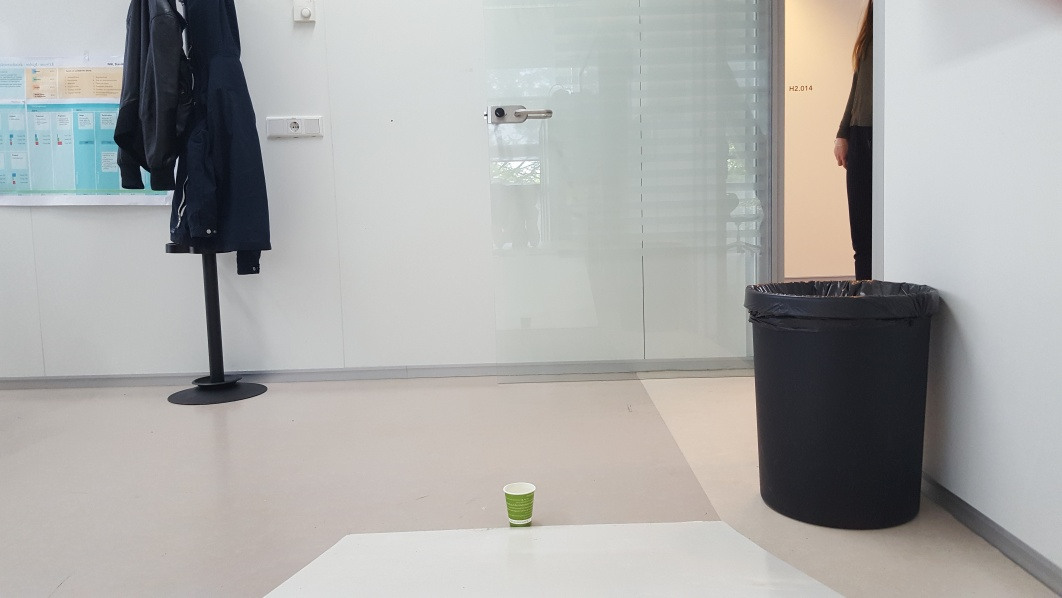cup: (500, 479, 541, 527)
